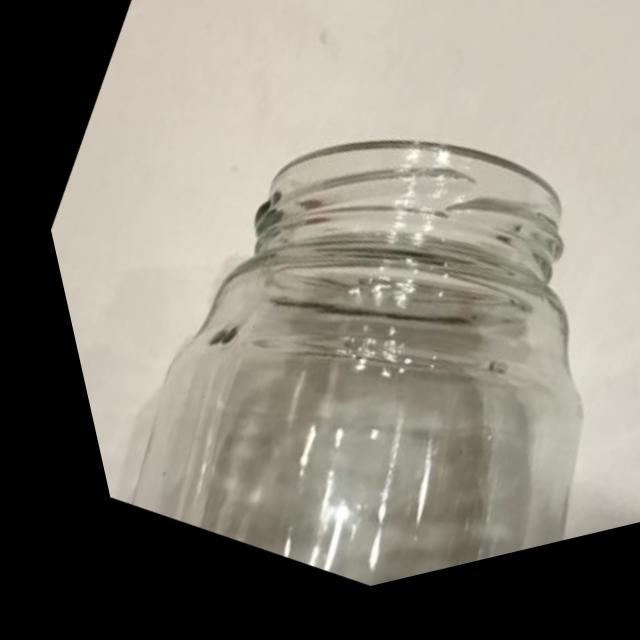glass: (16, 0, 640, 640)
